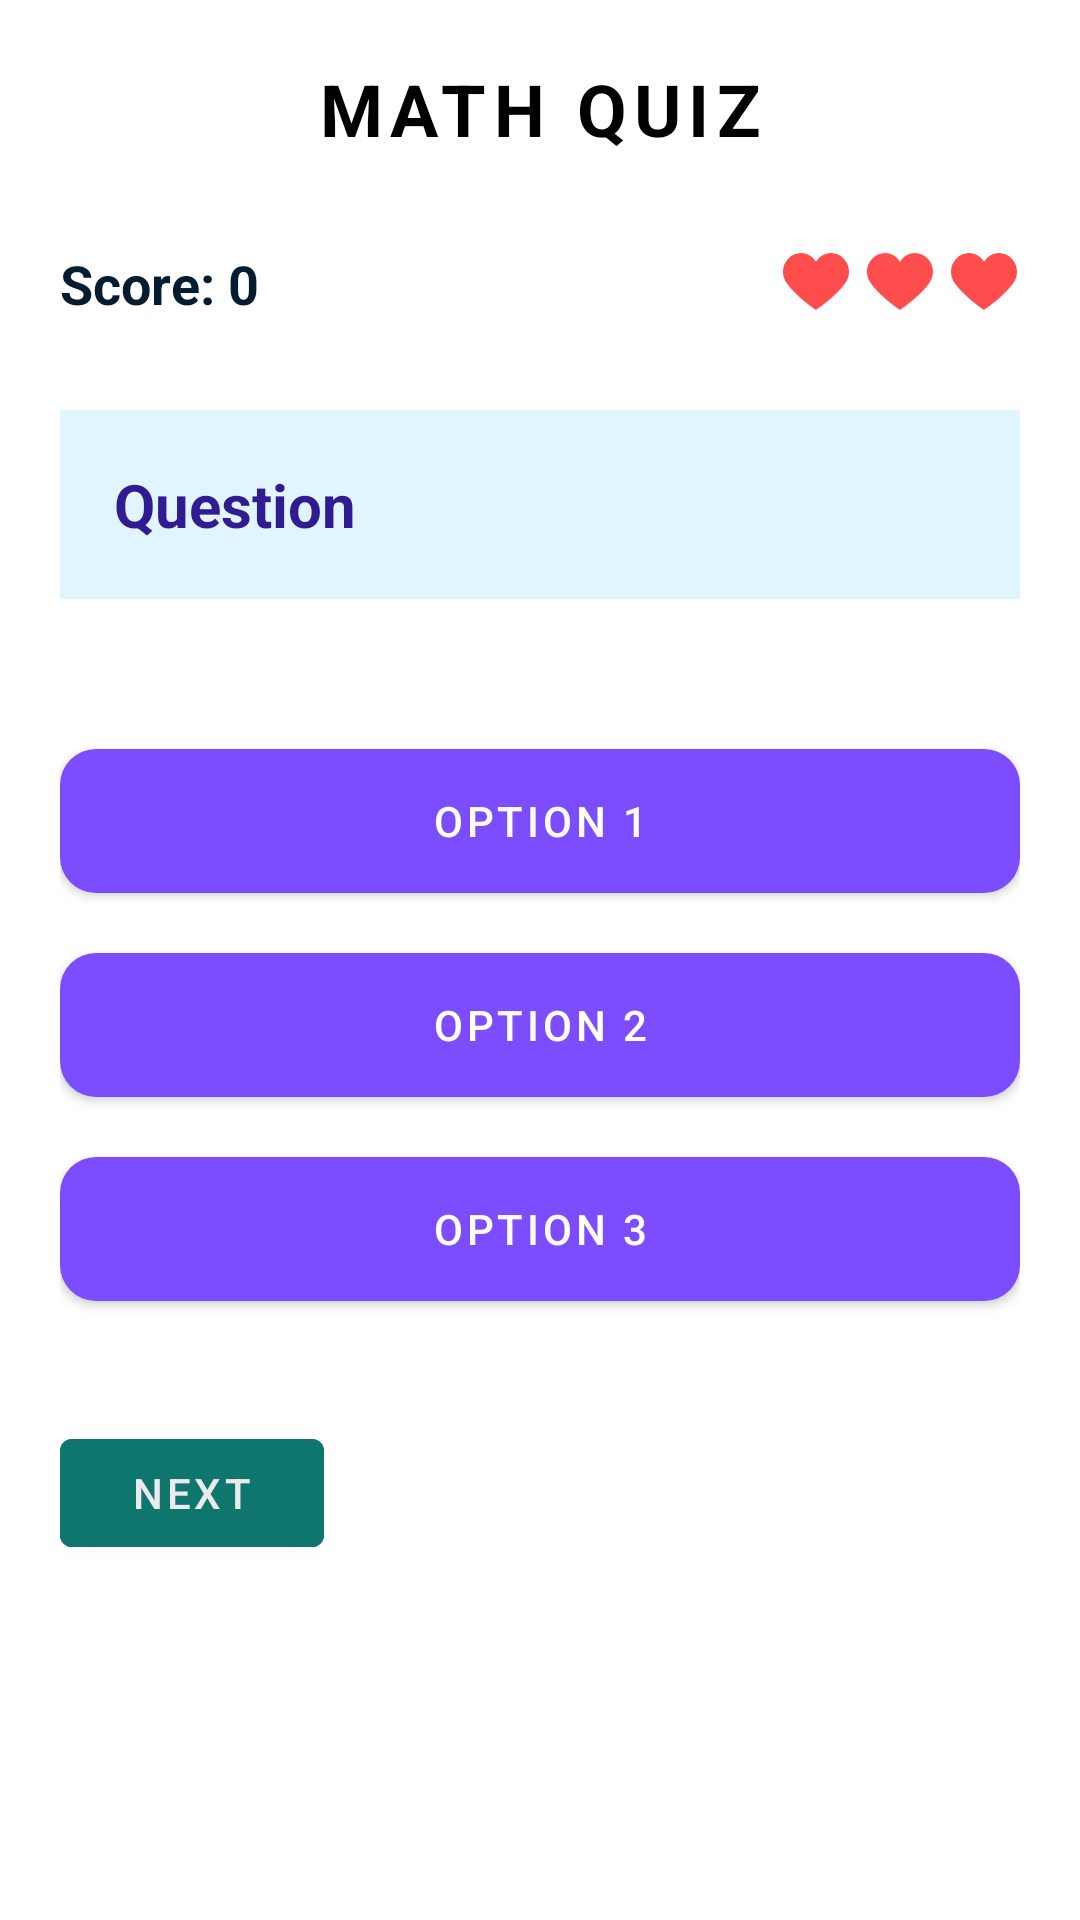

Icon click points for this 1080px x 1920px phone screenshot, format [x,y]:
heart full: [816,281], [900,281], [984,281]
